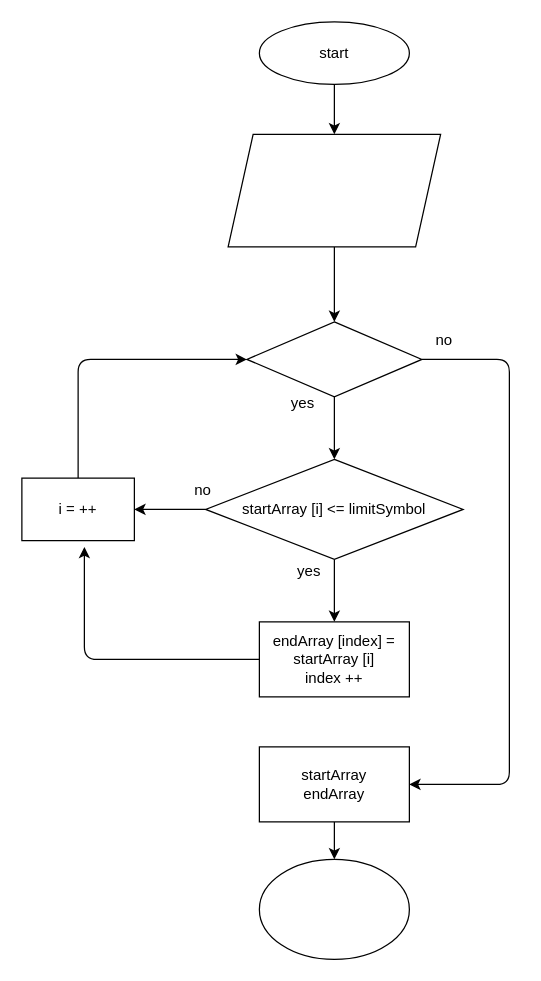
Image size: 541x981. Some labels were removed from this diagram. The shapes that lost their labels are listed below. From the top down, each one's box as (x1, y1, x2, y2) in pixels, then its label:
(227, 133, 441, 247): count startArray [ ] = {1...count} endArray [ ] i = 0 count = 0 limitSymbol = 3
(246, 321, 422, 397): i < count
(258, 858, 409, 959): end
